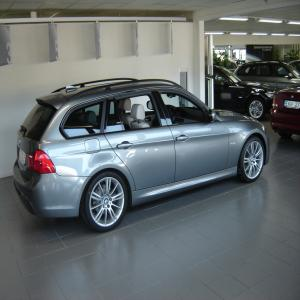Vehicle-registration-plate: (284, 99, 300, 111), (19, 149, 28, 169)
